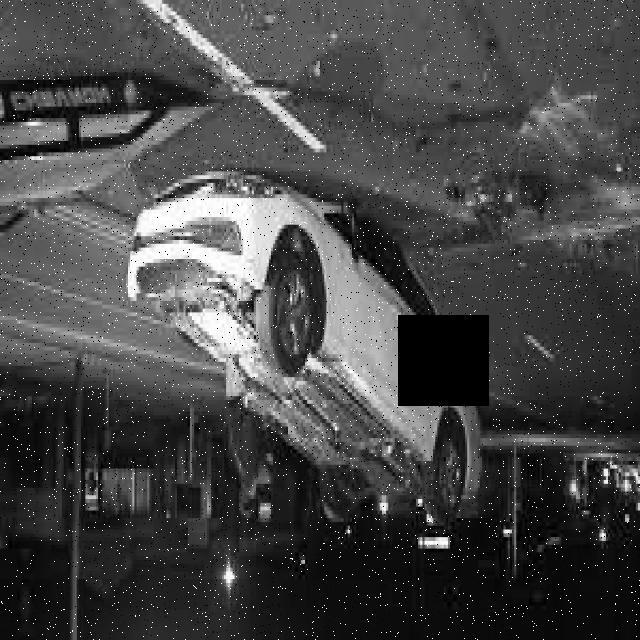severe: (120, 165, 486, 520)
